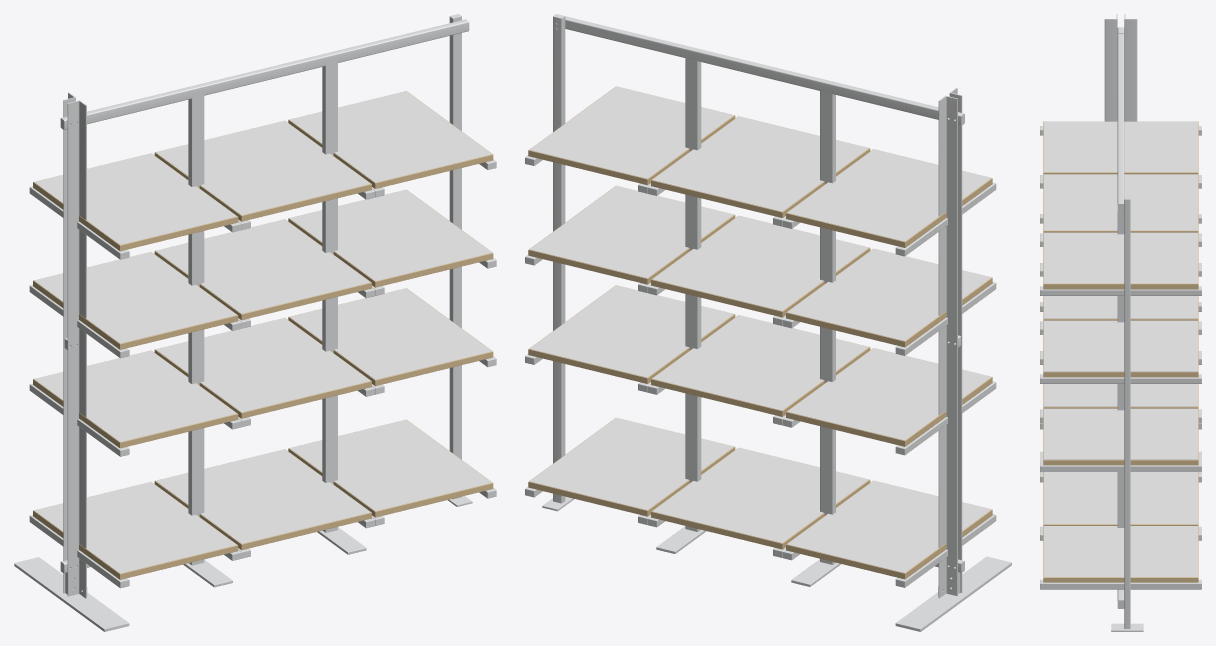
3 renders of one model, left to right at view 1: azimuth 30°, elevation 25°; view 2: azimuth 150°, elevation 25°; view 3: azimuth 270°, elevation 25°, orthographic. The views are drawn at different scales.
Parts seen in each view (by area): view 1: s1.3.top, s1.0.top, s1.1.top, s1.2.top, s2.0.top, s2.3.top, 026_105-06-001-10_Default_As_Machined_, s2.2.top, s2.1.top, s0.0.top, s0.3.top, s0.2.top (+23 smaller); view 2: s1.3.top, s1.0.top, s1.1.top, s1.2.top, s2.3.top, s2.0.top, s2.1.top, s2.2.top, 000_105-06-001-01_Default_As_Machined_, s0.3.top, s0.0.top, s0.1.top (+23 smaller); view 3: s1.3.top, s2.1.top, s2.2.top, s2.3.top, s2.0.top, s0.3.top, s1.0.top, s1.1.top, s1.2.top, 005_part, 000_105-06-001-01_Default_As_Machined_, 026_105-06-001-10_Default_As_Machined_ (+16 smaller).
Boxes of the visible parts, bbox=[...] form: s1.3.top: bbox=[155, 120, 370, 215]; s1.0.top: bbox=[155, 449, 370, 543]; s1.1.top: bbox=[155, 318, 370, 412]; s1.2.top: bbox=[155, 219, 370, 313]; s2.0.top: bbox=[289, 419, 492, 511]; s2.3.top: bbox=[289, 91, 492, 182]; 026_105-06-001-10_Default_As_Machined_: bbox=[67, 100, 86, 598]; s2.2.top: bbox=[289, 189, 492, 281]; s2.1.top: bbox=[289, 288, 492, 379]; s0.0.top: bbox=[34, 482, 236, 573]; s0.3.top: bbox=[34, 153, 236, 244]; s0.2.top: bbox=[34, 252, 236, 343]; s1.3.top: bbox=[652, 116, 868, 211]; s1.0.top: bbox=[652, 447, 868, 543]; s1.1.top: bbox=[652, 315, 868, 410]; s1.2.top: bbox=[652, 215, 868, 311]; s2.3.top: bbox=[529, 86, 734, 178]; s2.0.top: bbox=[529, 418, 734, 510]; s2.1.top: bbox=[529, 285, 733, 377]; s2.2.top: bbox=[529, 186, 733, 278]; 000_105-06-001-01_Default_As_Machined_: bbox=[938, 95, 957, 598]; s0.3.top: bbox=[787, 149, 991, 241]; s0.0.top: bbox=[787, 480, 991, 572]; s0.1.top: bbox=[787, 348, 991, 440]; s1.3.top: bbox=[1044, 174, 1197, 230]; s2.1.top: bbox=[1044, 408, 1197, 459]; s2.2.top: bbox=[1044, 320, 1197, 371]; s2.3.top: bbox=[1044, 232, 1197, 283]; s2.0.top: bbox=[1044, 526, 1197, 577]; s0.3.top: bbox=[1044, 121, 1197, 172]; s1.0.top: bbox=[1044, 472, 1197, 524]; s1.1.top: bbox=[1044, 384, 1197, 406]; s1.2.top: bbox=[1044, 296, 1197, 318]; 005_part: bbox=[1124, 200, 1130, 628]; 000_105-06-001-01_Default_As_Machined_: bbox=[1124, 14, 1137, 121]; 026_105-06-001-10_Default_As_Machined_: bbox=[1104, 14, 1117, 121].
Bounding box in the file's own units: 1.3 × 1.51 × 0.5.
